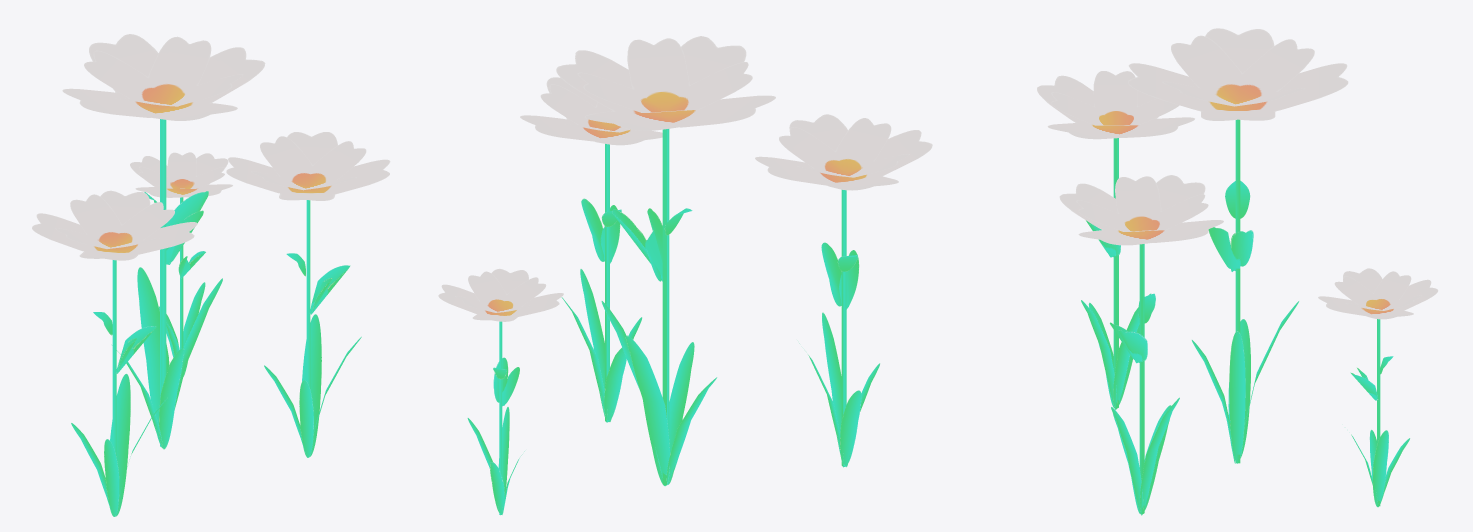
Rendered from Flower_n_02.fbx.
3 renders of one model, left to right at view 1: azimuth 30°, elevation 25°; view 2: azimuth 150°, elevation 25°; view 3: azimuth 270°, elevation 25°, orthographic. The views are drawn at different scales.
Visible parts, largest first — view 1: polySurface210; view 2: polySurface210; view 3: polySurface210.
Part boxes in pixels (x1,y1,x2,y2): polySurface210: (32,34,390,516); polySurface210: (438,36,932,515); polySurface210: (1037,28,1438,515).
Bounding box in the file's own units: 70.92 × 63.02 × 66.89.
1 material, 1 textured.
